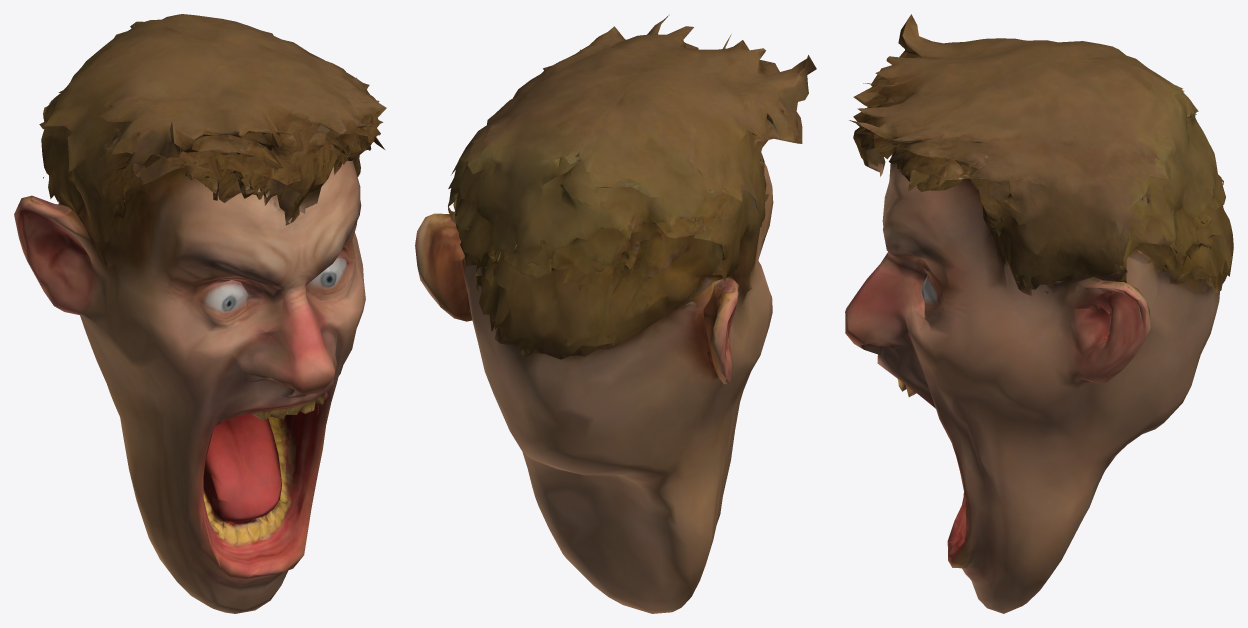
File: monster_62.glb
The picture shows the model from 3 angles, left to right: view 1: azimuth 30°, elevation 25°; view 2: azimuth 150°, elevation 25°; view 3: azimuth 270°, elevation 25°; orthographic projection. The views are drawn at different scales.
Parts seen in each view (by area): view 1: Flying_Screamer_0711183001_texture; view 2: Flying_Screamer_0711183001_texture; view 3: Flying_Screamer_0711183001_texture.
Part boxes in pixels (box(x1,y1,x2,y2)): Flying_Screamer_0711183001_texture: box(14, 14, 386, 613); Flying_Screamer_0711183001_texture: box(415, 14, 816, 613); Flying_Screamer_0711183001_texture: box(845, 14, 1233, 613).
Size of the model in its own units: 1.18 by 1.99 by 1.3.
1 material, 1 textured.
